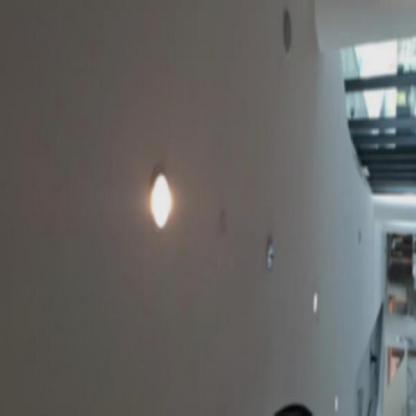light_on: (142, 159, 186, 240)
